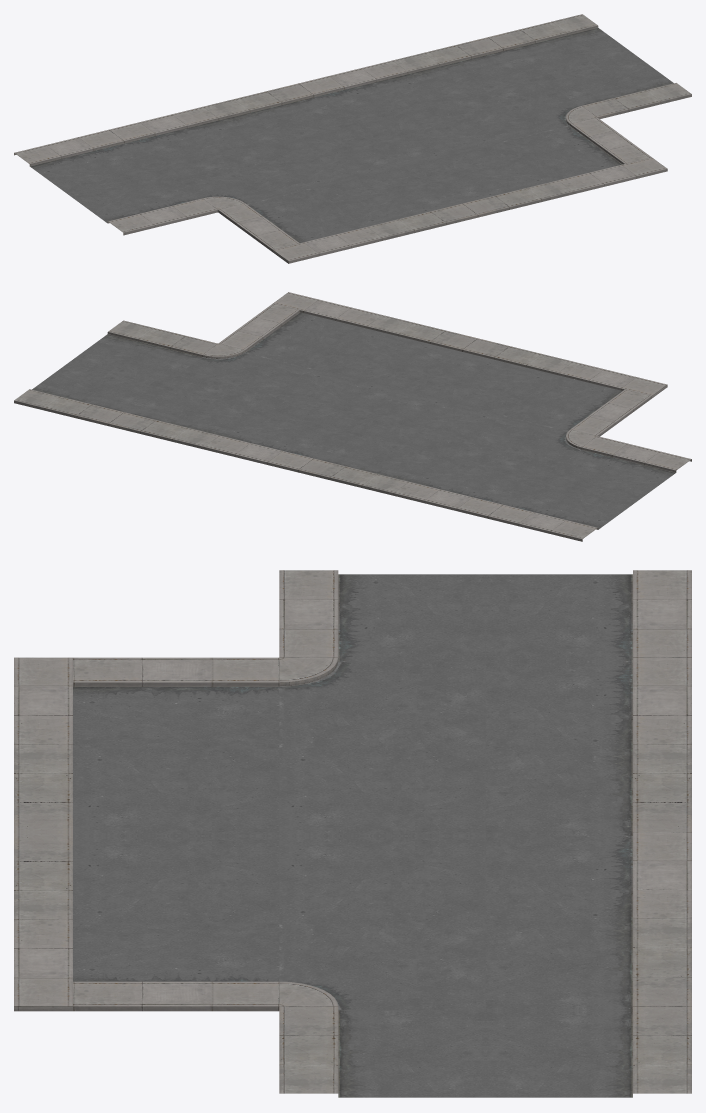
Rendered from Suburbs_road7.fbx.
3 views of the same model, one above another, from view 1: azimuth 30°, elevation 25°; view 2: azimuth 150°, elevation 25°; view 3: azimuth 270°, elevation 25° (orthographic). The views are drawn at different scales.
Parts seen in each view (by area): view 1: Suburbs_road7; view 2: Suburbs_road7; view 3: Suburbs_road7.
Part boxes in pixels (<box>): Suburbs_road7: <box>14,14,691,263</box>; Suburbs_road7: <box>14,292,691,541</box>; Suburbs_road7: <box>14,570,691,1097</box>.
Size of the model in its own units: 4200 by 18.51 by 2300.
